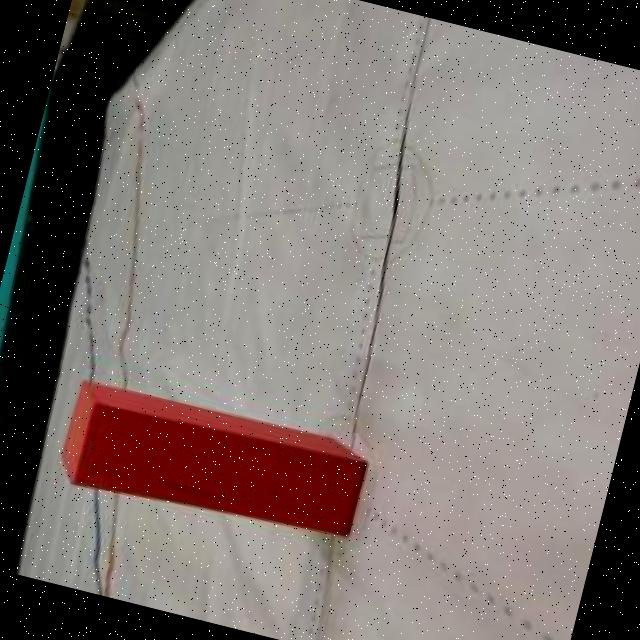redbox: (51, 372, 374, 552)
